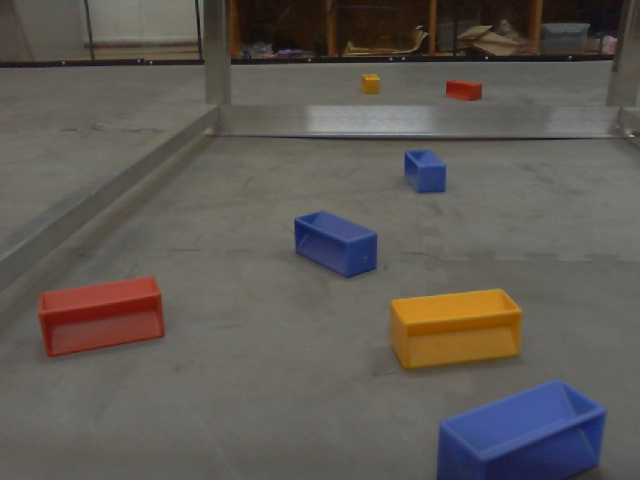BlueSample: (434, 378, 606, 478), (292, 204, 380, 279), (403, 146, 449, 195)
RedSample: (32, 275, 169, 359), (443, 77, 485, 101)
YellowSample: (386, 287, 526, 372), (361, 72, 381, 96)
